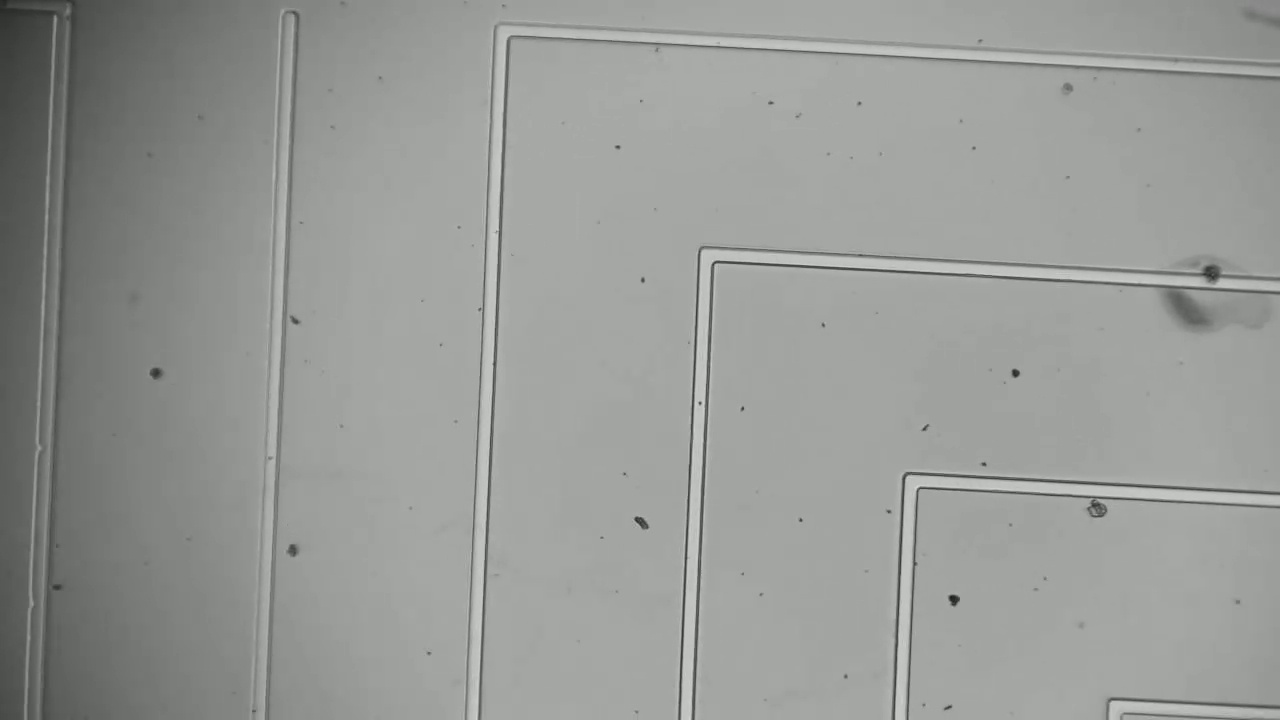edge_bite: (30, 433, 61, 461), (23, 592, 53, 615)
stains_enbedded: (1196, 256, 1231, 299)
